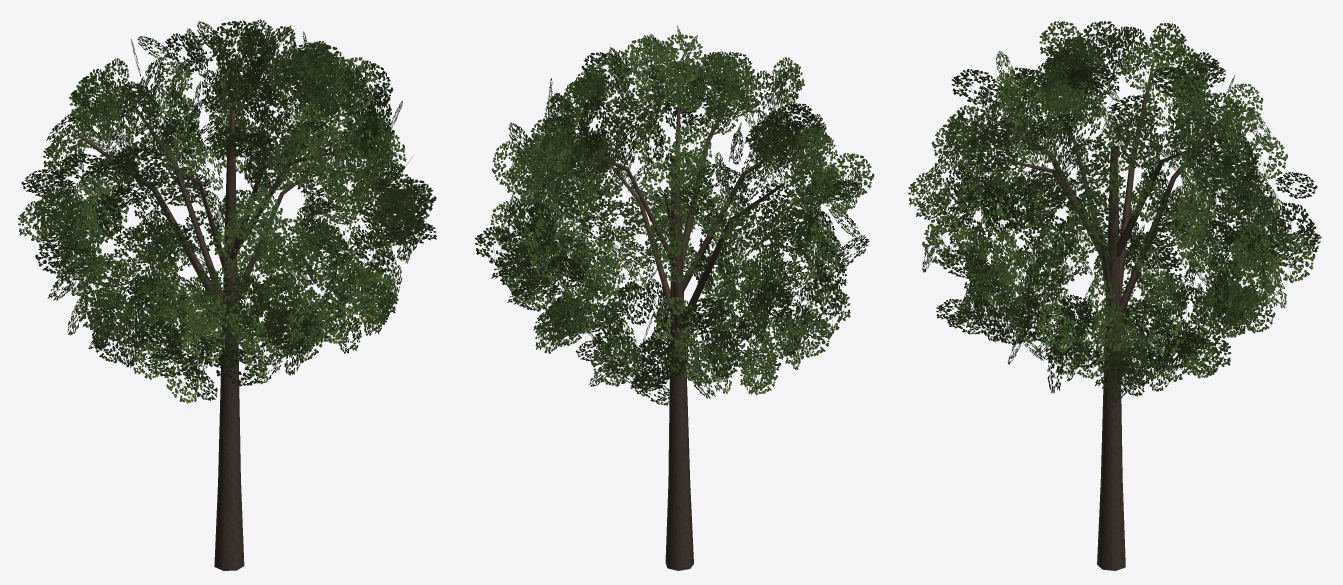
File: tpl_westdike_dike_elm_hi.glb
3 views of the same model, side by side, from view 1: azimuth 30°, elevation 25°; view 2: azimuth 150°, elevation 25°; view 3: azimuth 270°, elevation 25° (orthographic). The views are drawn at different scales.
Visible parts, largest first — view 1: tpl_westdike_dike_elm_hi; view 2: tpl_westdike_dike_elm_hi; view 3: tpl_westdike_dike_elm_hi.
Boxes of the visible parts, x1=… form: tpl_westdike_dike_elm_hi: x1=18, y1=19, x2=436, y2=570; tpl_westdike_dike_elm_hi: x1=475, y1=25, x2=874, y2=570; tpl_westdike_dike_elm_hi: x1=908, y1=21, x2=1321, y2=570.
Size of the model in its own units: 13.99 by 19.97 by 14.42.
Materials: 2 (2 with a texture image).
